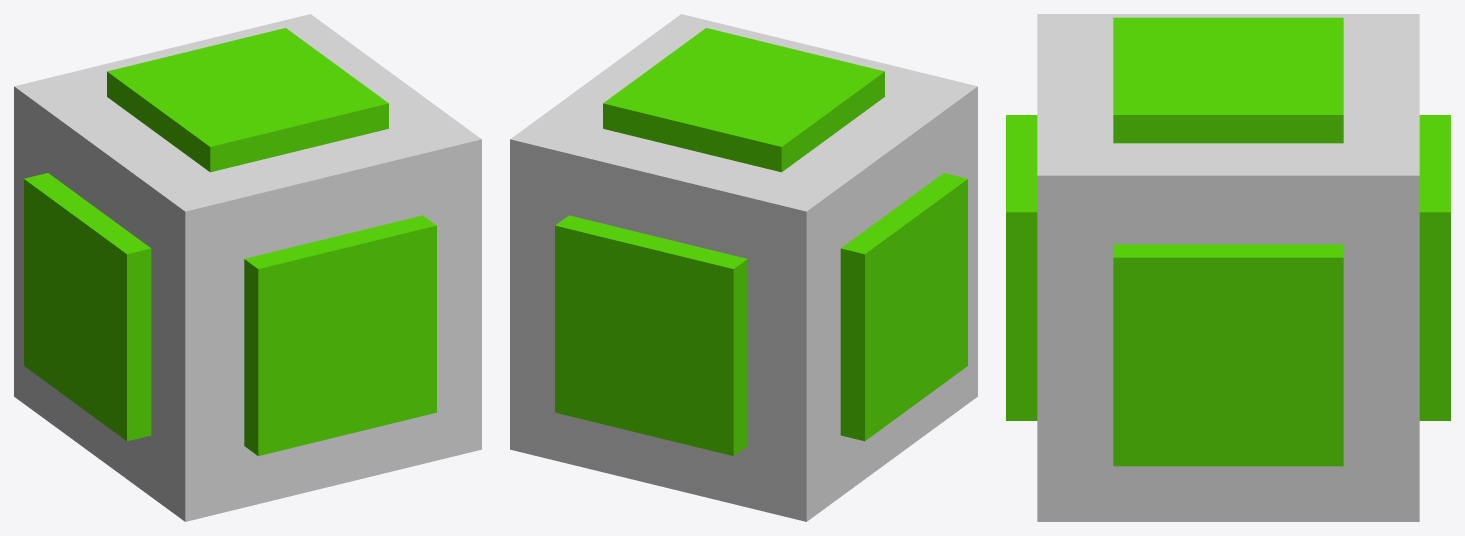
File: Battery.fbx
The picture shows the model from 3 angles, left to right: view 1: azimuth 30°, elevation 25°; view 2: azimuth 150°, elevation 25°; view 3: azimuth 270°, elevation 25°; orthographic projection. The views are drawn at different scales.
Visible parts, largest first — view 1: Cube.001; view 2: Cube.001; view 3: Cube.001.
Part boxes in pixels (x1,y1,x2,y2): Cube.001: [14, 14, 481, 521]; Cube.001: [510, 14, 977, 521]; Cube.001: [1006, 14, 1450, 521].
Bounding box in the file's own units: 79.37 × 79.37 × 79.37.
